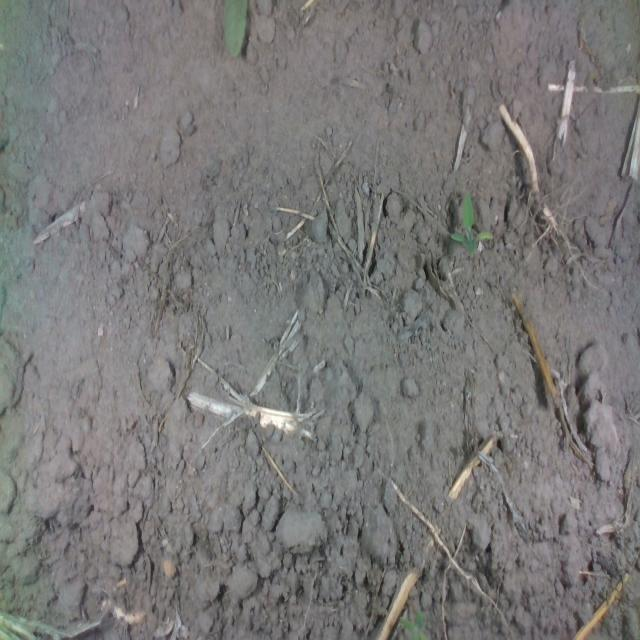weed: (449, 191, 493, 258)
